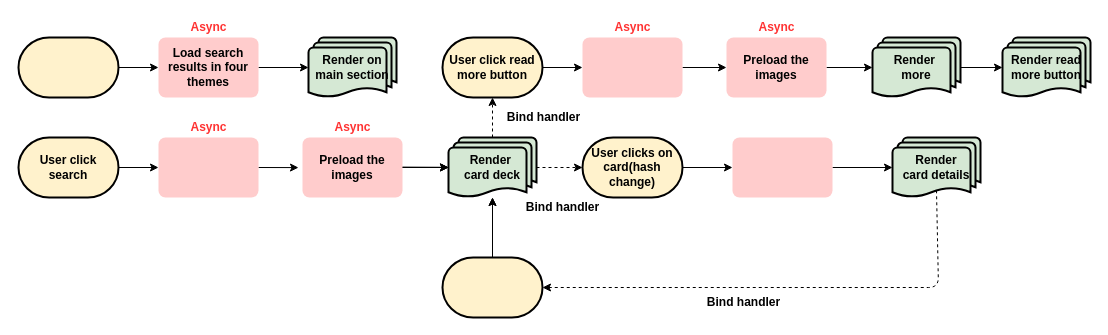
Some shapes in this 1108 by 335 pixel diagram are drawn without their labels. The shapes that lost their labels are listed below. From the top down, each one's box as (x1, y1, x2, y2) in pixels, then its label:
(17, 36, 119, 98): PageLoad
(582, 37, 682, 97): Load more
(158, 137, 258, 197): Load search results by keyword and city
(732, 137, 832, 197): Load the details
(441, 256, 543, 318): User click on return
